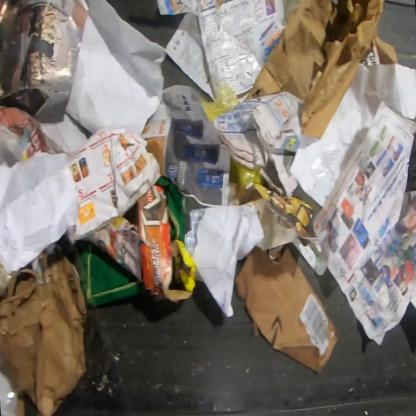cardboard: (246, 0, 398, 136), (0, 248, 88, 415), (236, 246, 340, 372), (13, 397, 27, 415)
soft_plastic: (201, 80, 240, 118), (234, 159, 262, 193)
